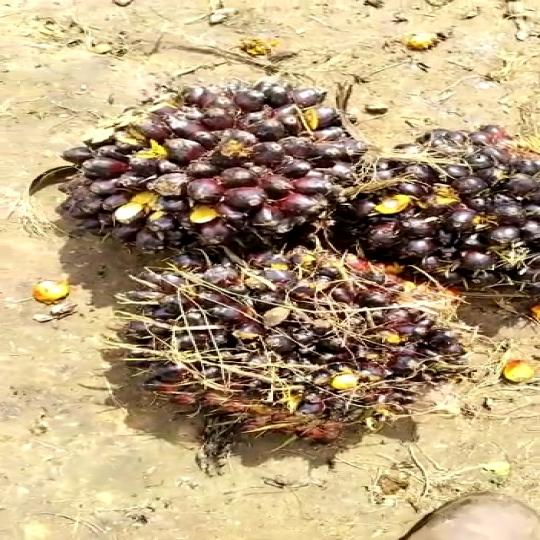mentah: (117, 245, 471, 453), (47, 83, 348, 246), (363, 115, 540, 310)
